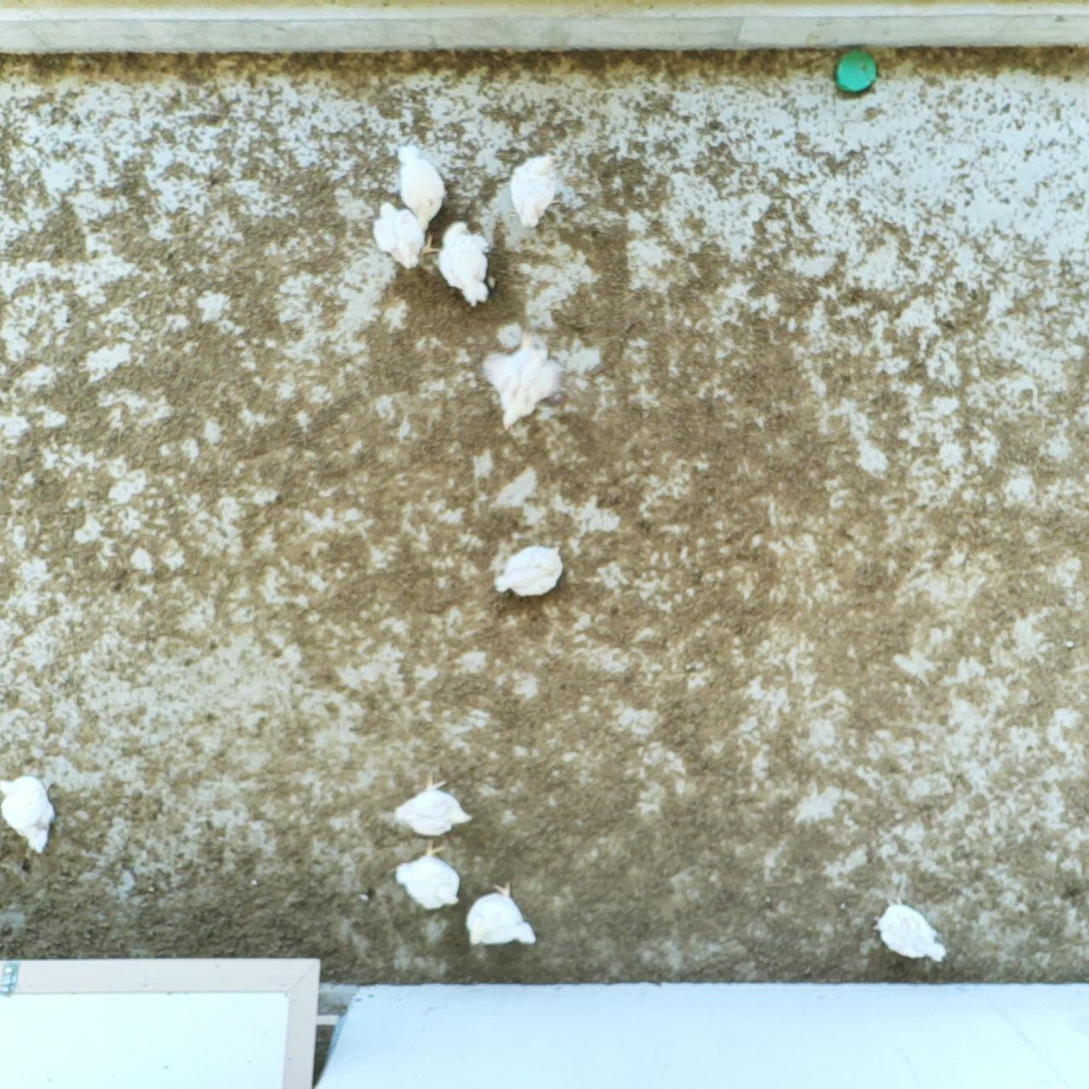chicken: (482, 327, 566, 432), (391, 770, 478, 839), (462, 879, 543, 950), (871, 894, 950, 964), (507, 148, 569, 236), (371, 198, 443, 273), (436, 219, 496, 309), (391, 839, 464, 912), (0, 774, 60, 858), (487, 540, 567, 602), (395, 143, 447, 231)
